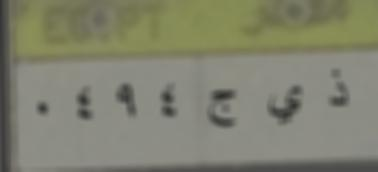0: (31, 94, 52, 126)
4: (154, 81, 181, 126), (72, 80, 96, 128)
9: (111, 80, 140, 126)
jeem: (205, 82, 244, 136)
yaa: (264, 84, 308, 131)
zaal: (324, 65, 355, 118)
